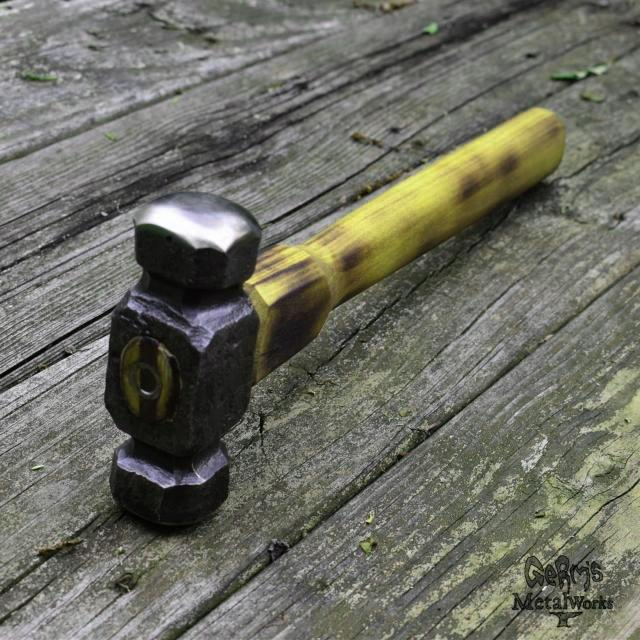hammer: (96, 101, 574, 540)
